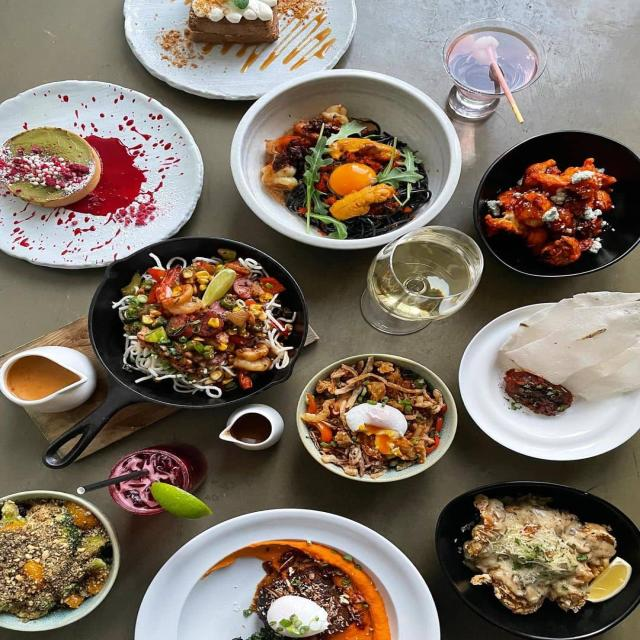banh ngot: (0, 113, 122, 216)
nuoc ep trai cay: (107, 456, 199, 514)
ruou: (369, 235, 474, 319)
